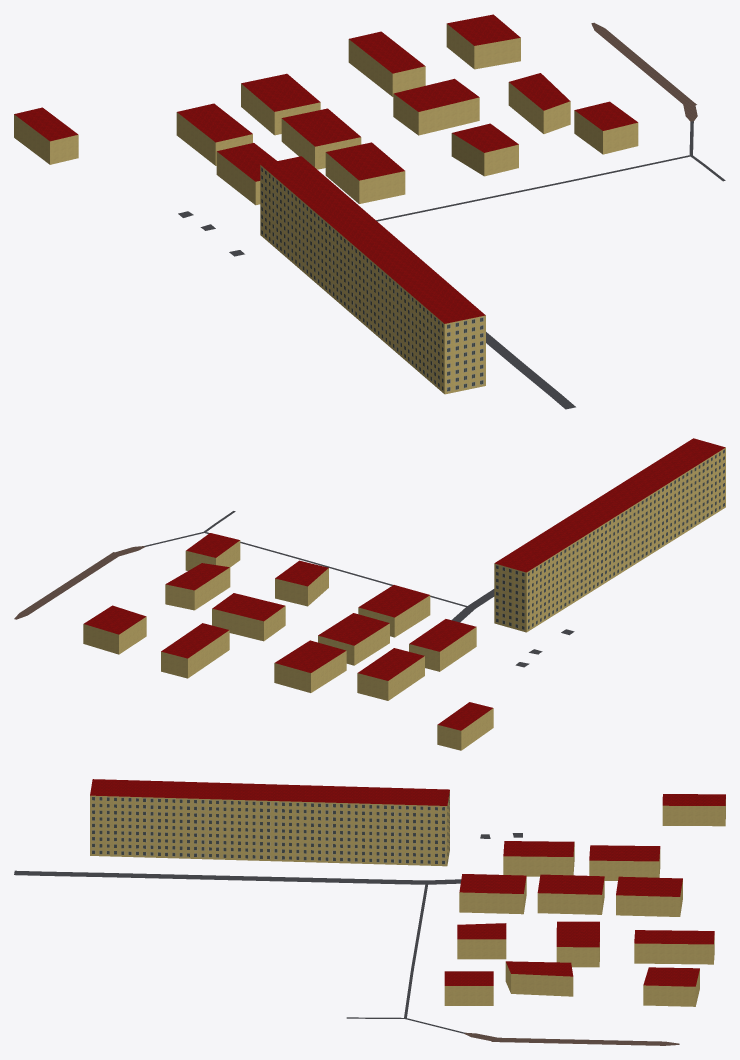
File: district_0_2.glb
The picture shows the model from 3 angles, top to bottom: view 1: azimuth 30°, elevation 25°; view 2: azimuth 150°, elevation 25°; view 3: azimuth 270°, elevation 25°; orthographic projection. The views are drawn at different scales.
Visible parts, largest first — view 1: Building w44036097, Building w625367568, Building w626199633, Building w625367567, Building w625367571, Building w626199631, Building w626199630, Building w626199626, Building w44036131, Building w625367572, Building w44036209, Building w44036130 (+4 smaller); view 2: Building w44036097, Building w626199630, Building w625367568, Building w625367567, Building w626199626, Building w626199631, Building w626199627, Building w626199633, Building w625367571, Building w625367572, Building w44036209, Building w44036131 (+2 smaller); view 3: Building w44036097, Building w625367567, Building w626199631, Building w626199633, Building w626199630, Building w626199627, Building w626199626, Building w625367572, Road w163706767, Building w625367571, Building w44036209, Building w625367568 (+4 smaller).
Boxes of the visible parts, box(x1,y1,x2,y2) form: Building w44036097: box(260, 156, 485, 394); Building w625367568: box(393, 78, 479, 135); Building w626199633: box(325, 142, 405, 203); Building w625367567: box(348, 31, 425, 96); Building w625367571: box(446, 14, 520, 69); Building w626199631: box(281, 108, 361, 169); Building w626199630: box(241, 73, 320, 135); Building w626199626: box(176, 103, 252, 165); Building w44036131: box(451, 123, 518, 176); Building w625367572: box(508, 73, 570, 133); Building w44036209: box(14, 107, 78, 164); Building w44036130: box(574, 101, 638, 154); Building w44036097: box(494, 438, 725, 632); Building w626199630: box(274, 640, 346, 692); Building w625367568: box(212, 593, 285, 641); Building w625367567: box(161, 623, 229, 678); Building w626199626: box(357, 648, 424, 700); Building w626199631: box(318, 613, 389, 665); Building w626199627: box(409, 619, 476, 671); Building w626199633: box(358, 585, 430, 637); Building w625367571: box(83, 605, 146, 654); Building w625367572: box(165, 563, 230, 610); Building w44036209: box(437, 702, 493, 750); Building w44036131: box(275, 560, 328, 606); Building w44036097: box(90, 779, 449, 866); Building w625367567: box(634, 930, 714, 964); Building w626199631: box(537, 874, 604, 914); Building w626199633: box(459, 874, 526, 914); Building w626199630: box(616, 876, 682, 916); Building w626199627: box(503, 841, 574, 876); Building w626199626: box(589, 845, 660, 880); Building w625367572: box(505, 961, 573, 996); Road w163706767: box(14, 870, 461, 884); Building w625367571: box(643, 967, 699, 1006); Building w44036209: box(662, 794, 725, 826); Building w625367568: box(556, 921, 599, 967).
Bounding box in the file's own units: 186 × 22.5 × 241.
Materials: 5 (5 with a texture image).
